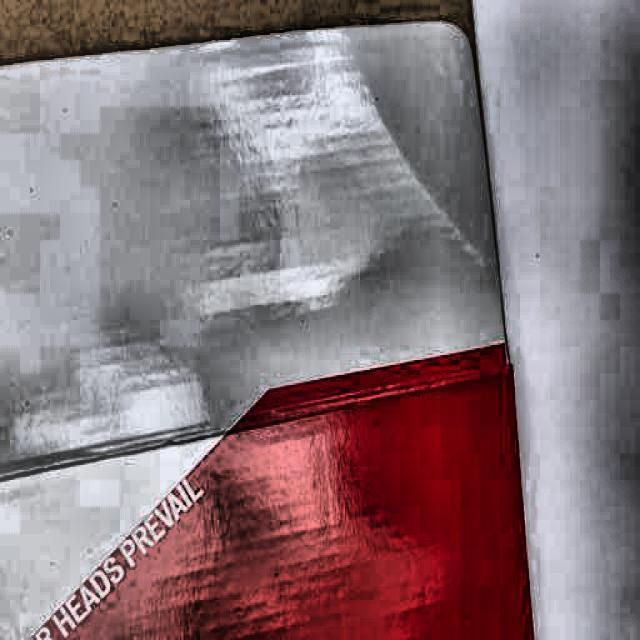cardboard: (0, 0, 539, 638)
